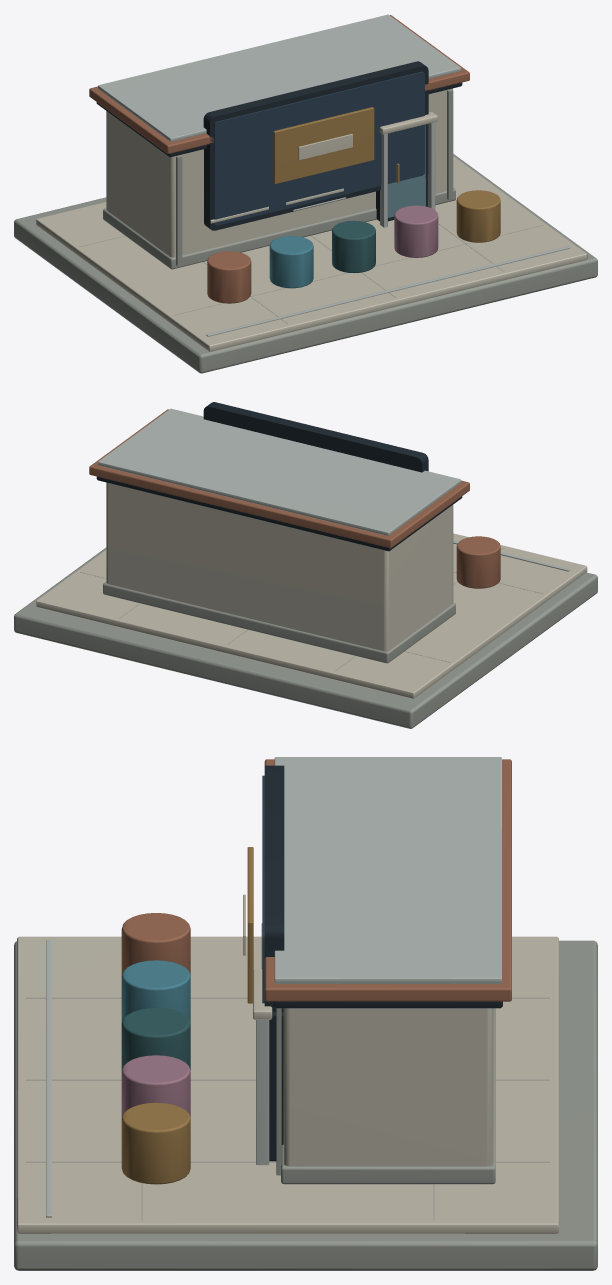
The model's file is idea-3e3c33cf.glb.
3 renders of one model, top to bottom at view 1: azimuth 30°, elevation 25°; view 2: azimuth 150°, elevation 25°; view 3: azimuth 270°, elevation 25°, orthographic. The views are drawn at different scales.
Parts seen in each view (by area): view 1: Karmic Brand Studio; view 2: Karmic Brand Studio; view 3: Karmic Brand Studio.
Boxes of the visible parts, box(x1,y1,x2,y2) form: Karmic Brand Studio: box(14, 14, 597, 373); Karmic Brand Studio: box(14, 402, 597, 728); Karmic Brand Studio: box(14, 757, 597, 1270).
Bounding box in the file's own units: 4.8 × 2.03 × 3.9.
